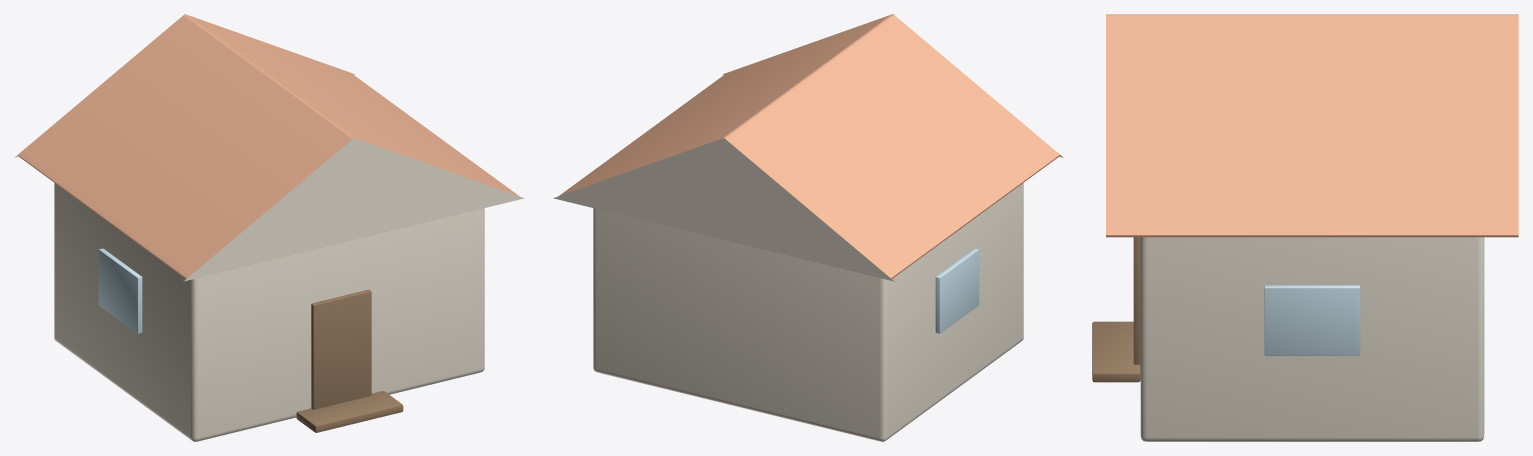
File: Cabin.fbx
3 renders of one model, left to right at view 1: azimuth 30°, elevation 25°; view 2: azimuth 150°, elevation 25°; view 3: azimuth 270°, elevation 25°, orthographic. The views are drawn at different scales.
Parts seen in each view (by area): view 1: Cabin_Model; view 2: Cabin_Model; view 3: Cabin_Model.
Part boxes in pixels (x1,y1,x2,y2): Cabin_Model: (14, 14, 524, 441); Cabin_Model: (553, 14, 1063, 441); Cabin_Model: (1092, 14, 1518, 441).
Size of the model in its own units: 7 by 5.5 by 6.2.
